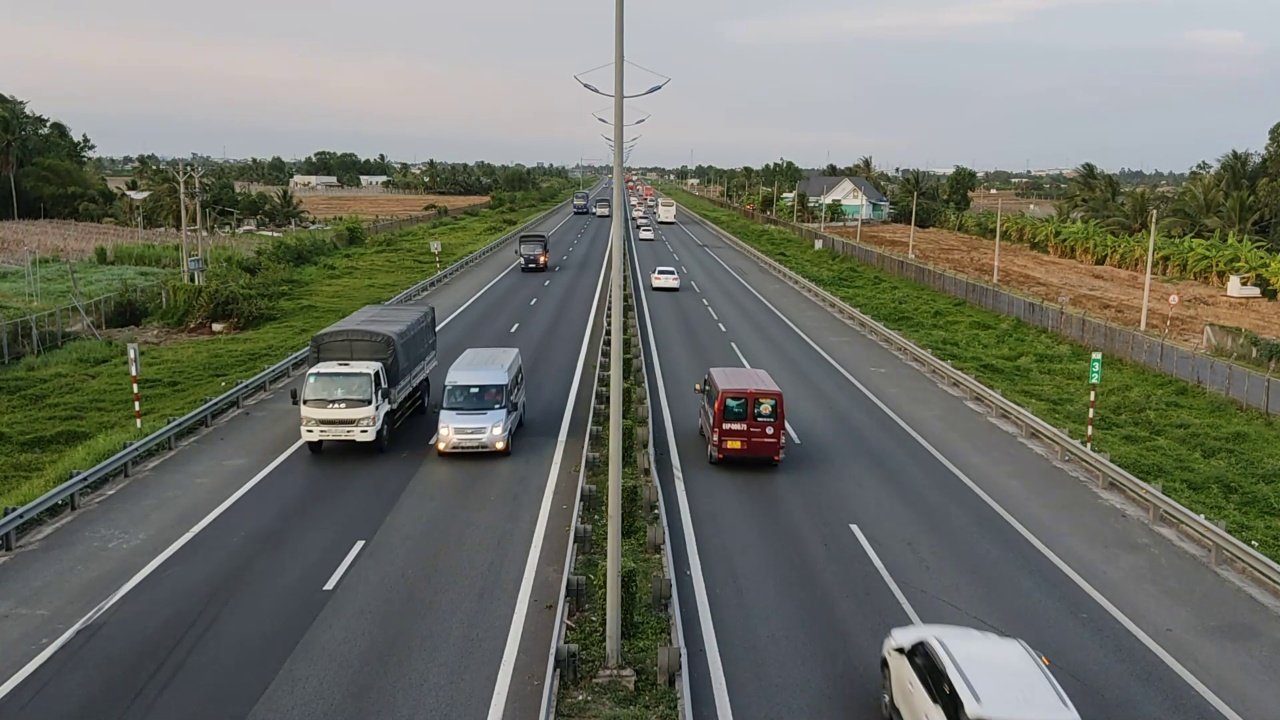car: (879, 621, 1082, 719), (435, 347, 527, 455), (694, 366, 787, 465), (649, 265, 681, 291)
truck: (293, 301, 439, 454)
